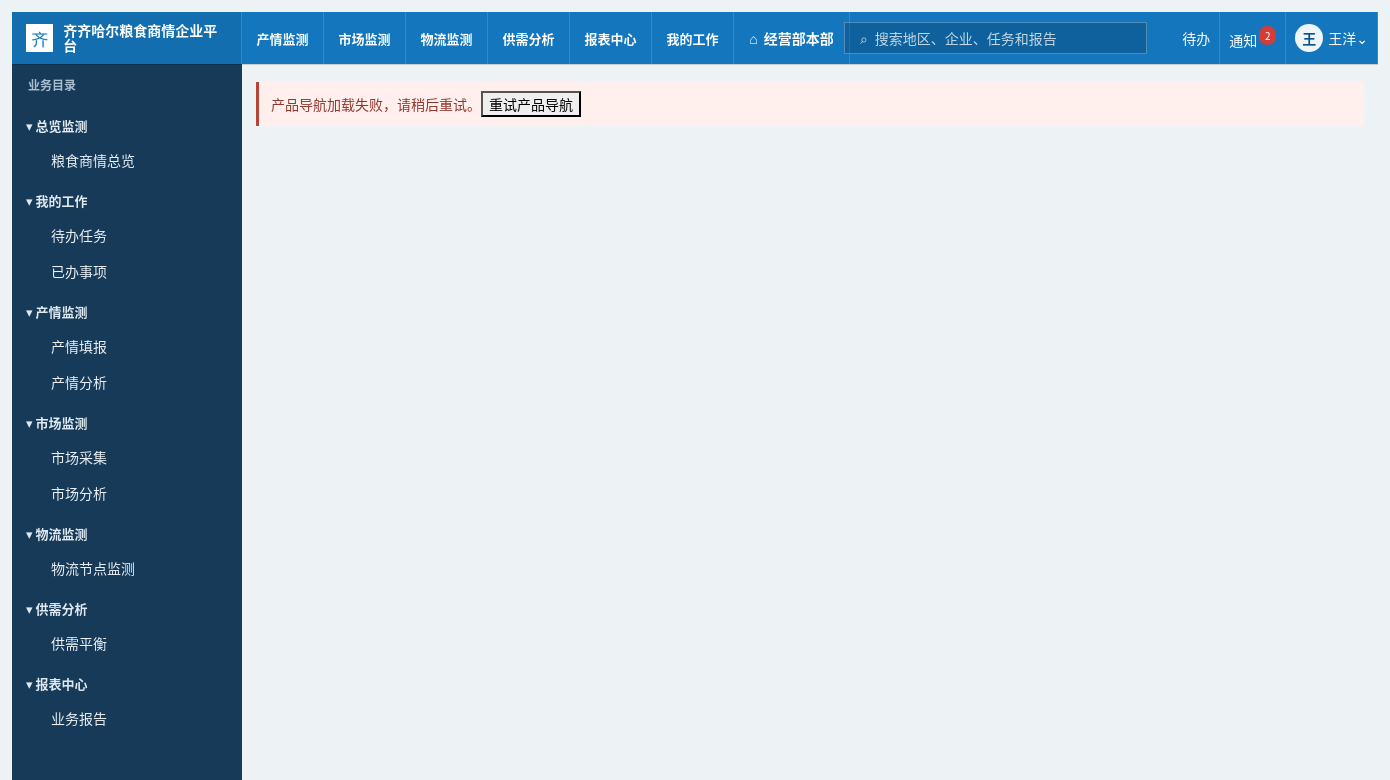
Test case: App production composition › retries dynamic product navigation after an initial failure
The image size is (1390, 780).
Expected: the message shows "产品导航加载失败，请稍后重试。", [271, 94, 481, 114]
Click the button "重试产品导航": click(531, 104) [481, 91, 581, 117]
(page scrolled)
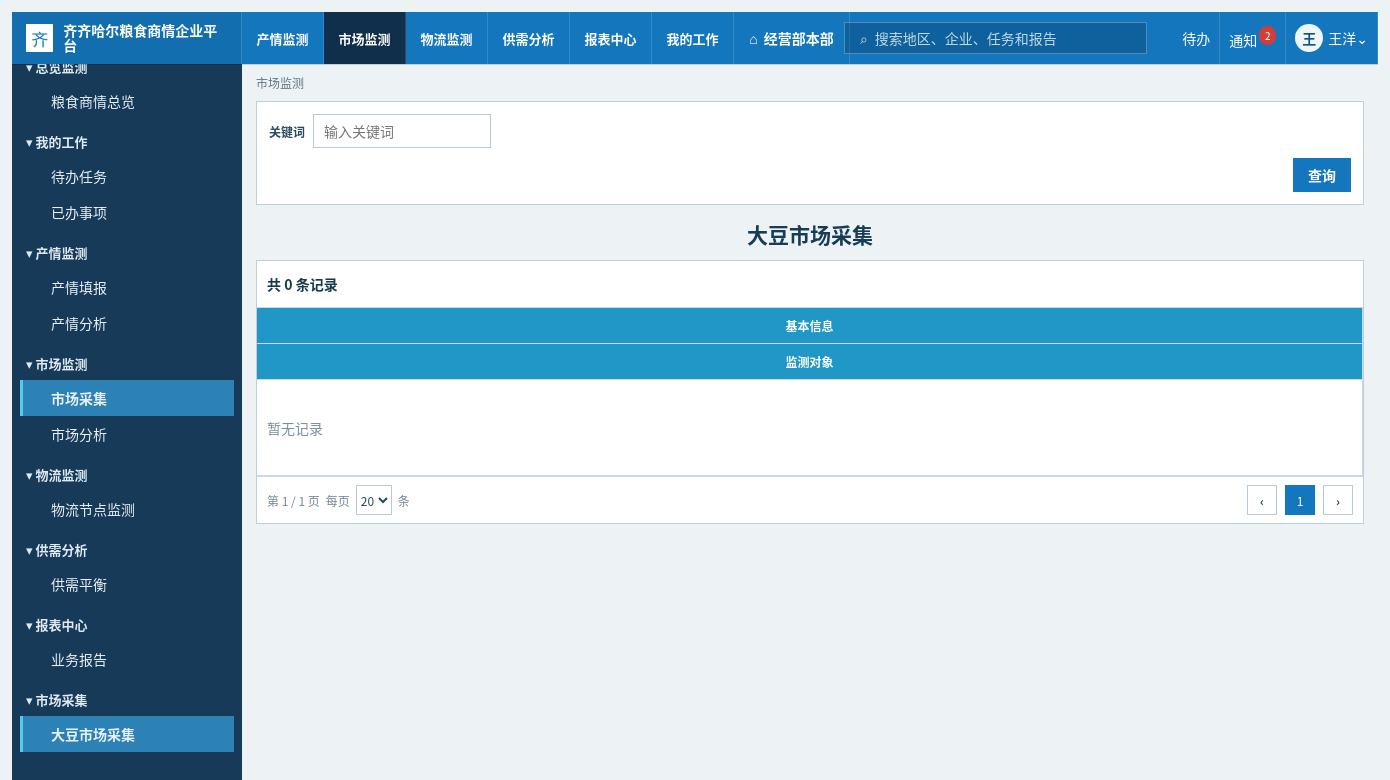
Expected: the button "大豆市场采集" is shown, [20, 716, 234, 752]
